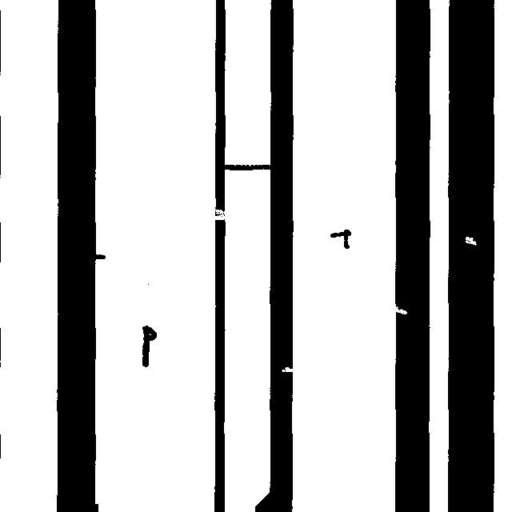copper: (134, 318, 164, 374), (322, 222, 358, 256)
mousebite: (383, 298, 414, 322), (274, 359, 302, 379)
open: (198, 202, 234, 227)
pin-hole: (458, 229, 484, 253)
short: (214, 157, 278, 178)
spur: (82, 246, 113, 266)
